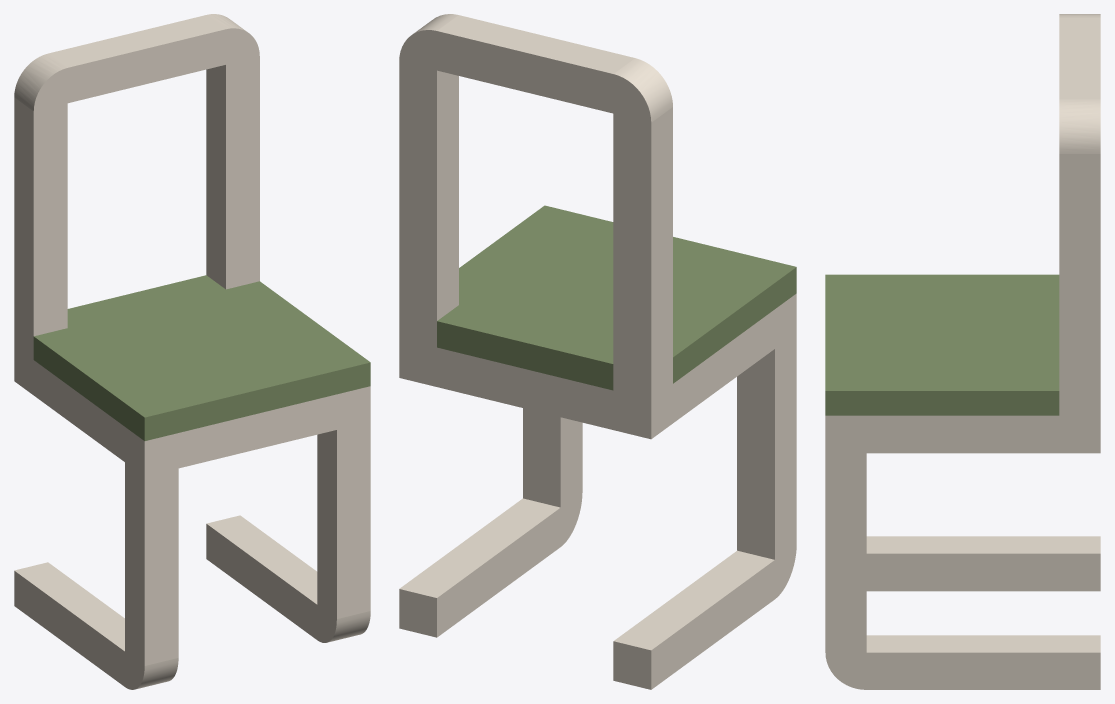
File: kitChairModernFrameCushion.glb
3 views of the same model, side by side, from view 1: azimuth 30°, elevation 25°; view 2: azimuth 150°, elevation 25°; view 3: azimuth 270°, elevation 25° (orthographic). The views are drawn at different scales.
Visible parts, largest first — view 1: kitChairModernFrameCushion_metal, kitChairModernFrameCushion_fabricAccent; view 2: kitChairModernFrameCushion_metal, kitChairModernFrameCushion_fabricAccent; view 3: kitChairModernFrameCushion_metal, kitChairModernFrameCushion_fabricAccent.
Part boxes in pixels (x1=…): kitChairModernFrameCushion_metal: x1=14, y1=14, x2=370, y2=689; kitChairModernFrameCushion_fabricAccent: x1=33, y1=275, x2=370, y2=440; kitChairModernFrameCushion_metal: x1=399, y1=14, x2=796, y2=689; kitChairModernFrameCushion_fabricAccent: x1=437, y1=205, x2=796, y2=390; kitChairModernFrameCushion_metal: x1=825, y1=14, x2=1100, y2=689; kitChairModernFrameCushion_fabricAccent: x1=825, y1=274, x2=1059, y2=415.
Size of the model in its own units: 0.4 by 0.92 by 0.4.
